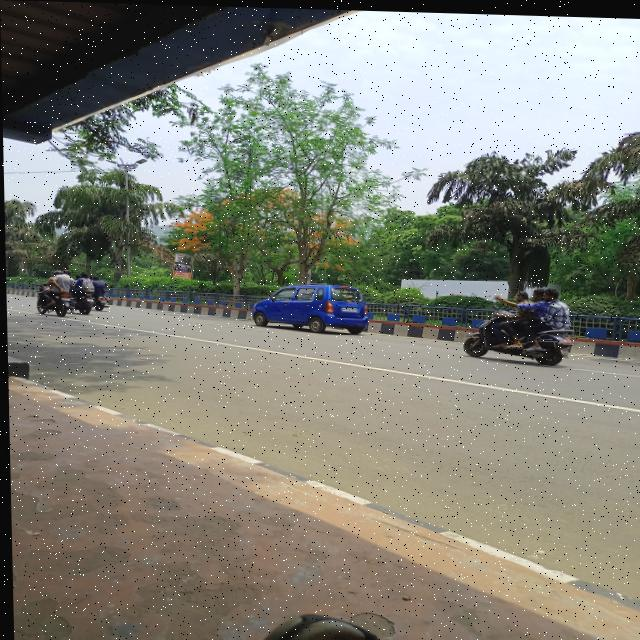bike: (457, 302, 588, 370), (33, 284, 77, 317), (79, 287, 105, 318)
car: (247, 275, 368, 345)
